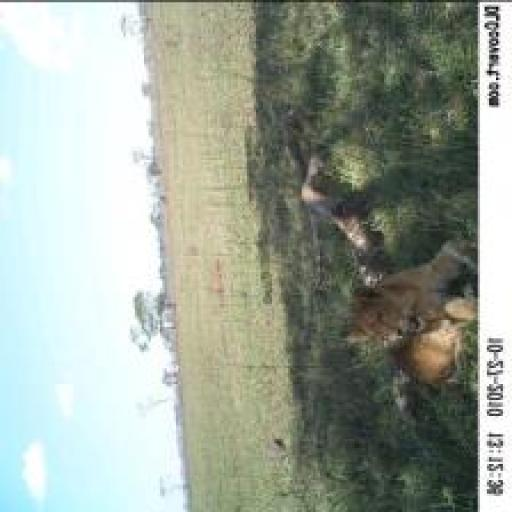lion: (332, 220, 481, 396)
